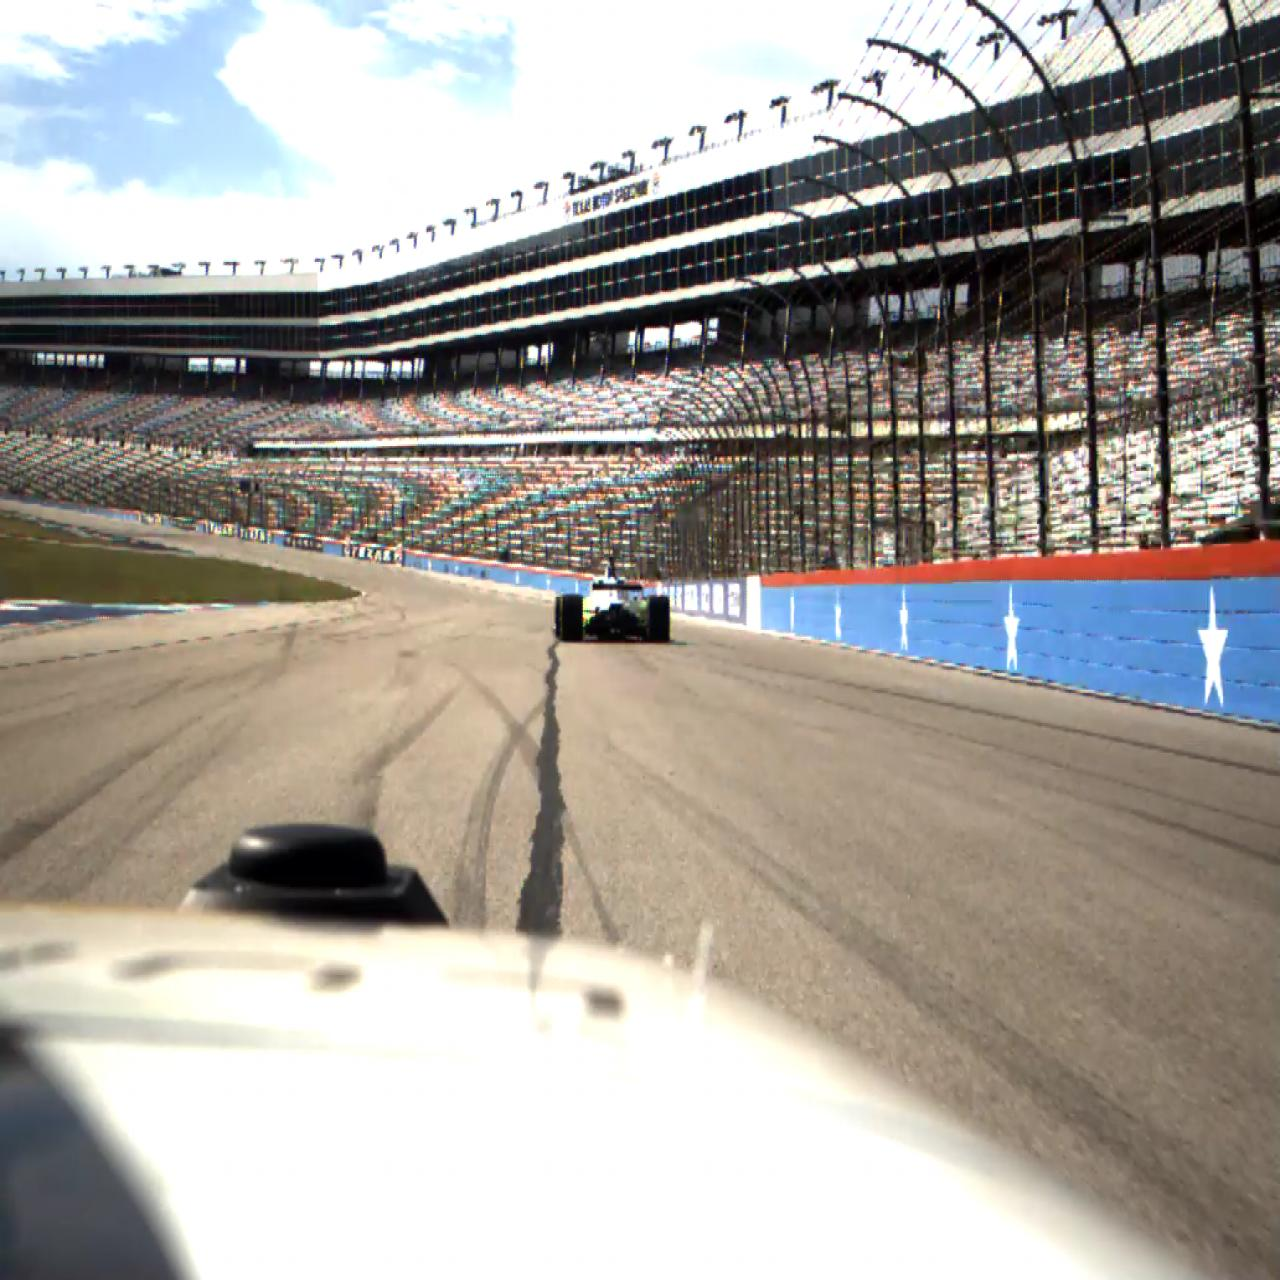AV: (553, 554, 670, 645)
Wheel: (561, 594, 584, 642), (648, 595, 669, 644), (554, 597, 567, 638)
